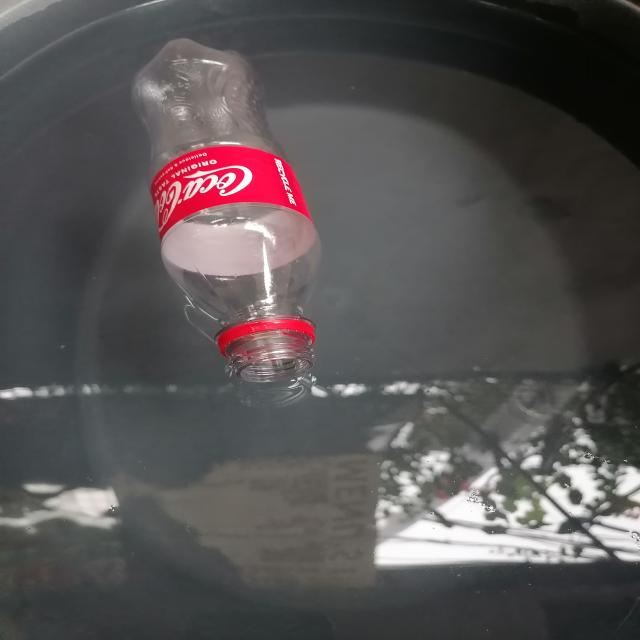Plastic Bottle: (83, 29, 371, 427)
